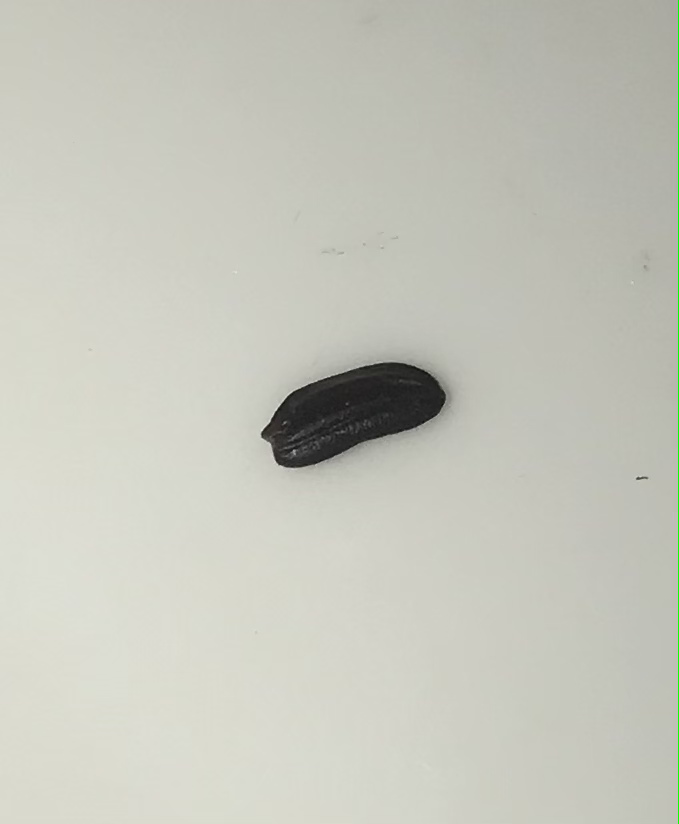Gao Nep Cam: (259, 356, 453, 468)
